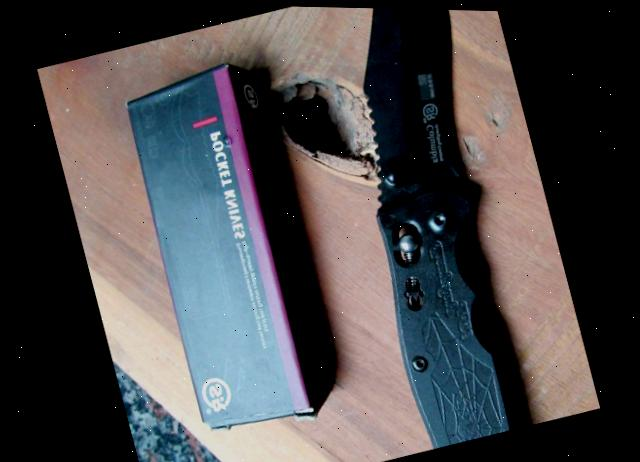pocket-knife: (297, 5, 570, 453)
